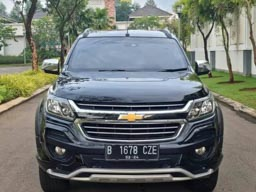plat: (107, 143, 159, 154)
